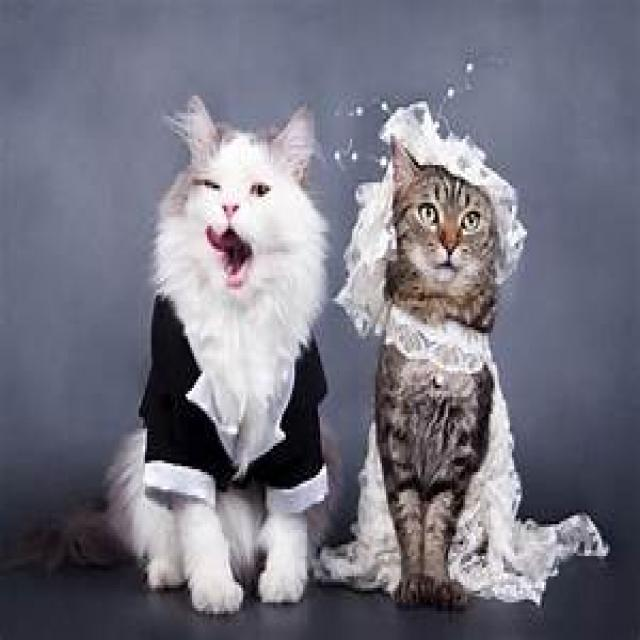animal: (92, 109, 340, 600), (342, 104, 529, 600)
